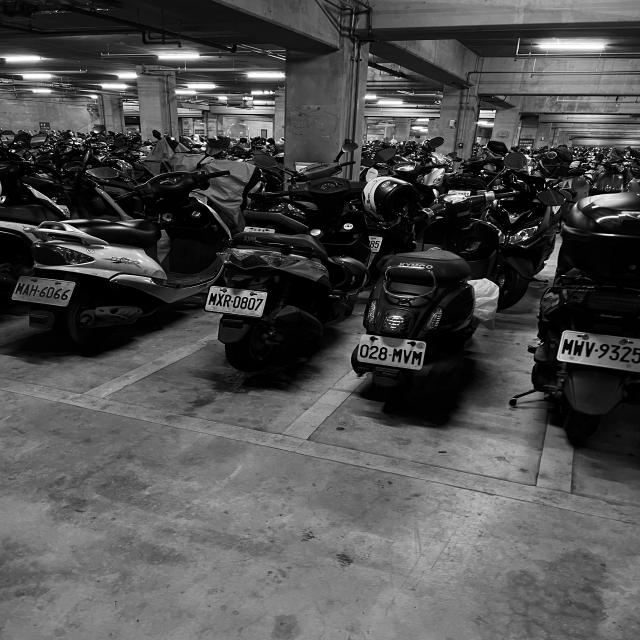-: (388, 353, 393, 357), (37, 289, 41, 293), (595, 348, 599, 352), (231, 300, 234, 303)
0: (359, 344, 371, 359), (45, 286, 57, 299), (246, 297, 257, 311), (232, 296, 242, 309)
2: (618, 346, 633, 364), (377, 346, 389, 361), (368, 345, 379, 360)
3: (608, 344, 622, 361)
5: (630, 347, 640, 365), (374, 241, 380, 249)
6: (52, 287, 65, 300), (59, 288, 72, 301), (38, 286, 50, 298)
7: (254, 298, 264, 312)
8: (239, 296, 250, 310), (369, 240, 375, 248)
9: (596, 344, 611, 360)
A: (21, 283, 31, 296)
H: (28, 284, 40, 297)
M: (560, 339, 575, 355), (410, 350, 424, 366), (391, 347, 404, 364), (14, 282, 26, 295), (208, 293, 218, 306)
R: (222, 294, 232, 308)
V: (583, 341, 596, 358), (402, 348, 413, 364)
W: (572, 340, 586, 357)
X: (215, 293, 225, 307)
plate: (357, 336, 426, 367), (206, 286, 266, 316), (11, 278, 74, 305)
